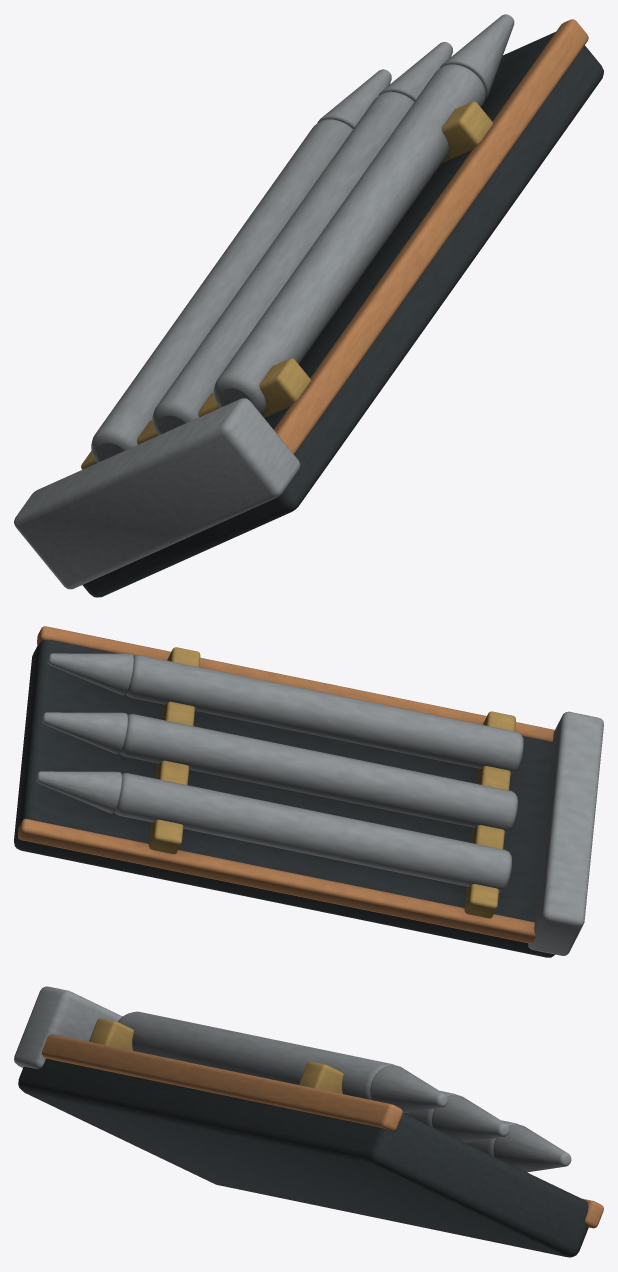
3 renders of one model, top to bottom at view 1: azimuth 30°, elevation 25°; view 2: azimuth 150°, elevation 25°; view 3: azimuth 270°, elevation 25°, orthographic. The views are drawn at different scales.
Parts seen in each view (by area): view 1: Long slug cassette floor; view 2: Long slug cassette floor; view 3: Long slug cassette floor.
Boxes of the visible parts, x1,y1,x2,y2 form: Long slug cassette floor: (14,14,603,597); Long slug cassette floor: (14,626,603,957); Long slug cassette floor: (14,986,603,1257).
Bounding box in the file's own units: 1.58 × 0.8444 × 1.38.
Materials: 1 (1 with a texture image).
